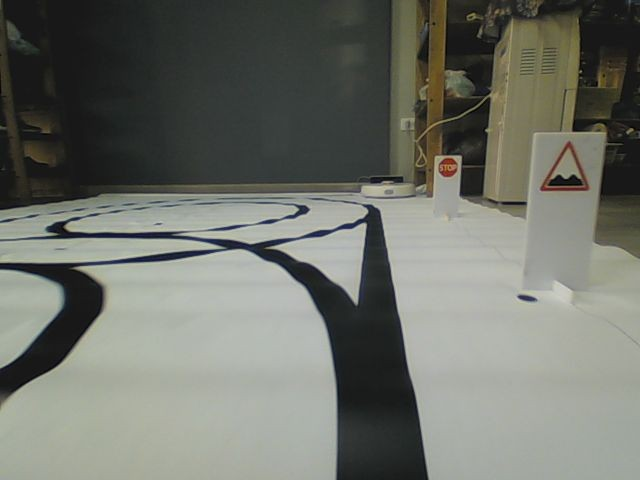Stop: (437, 157, 459, 179)
